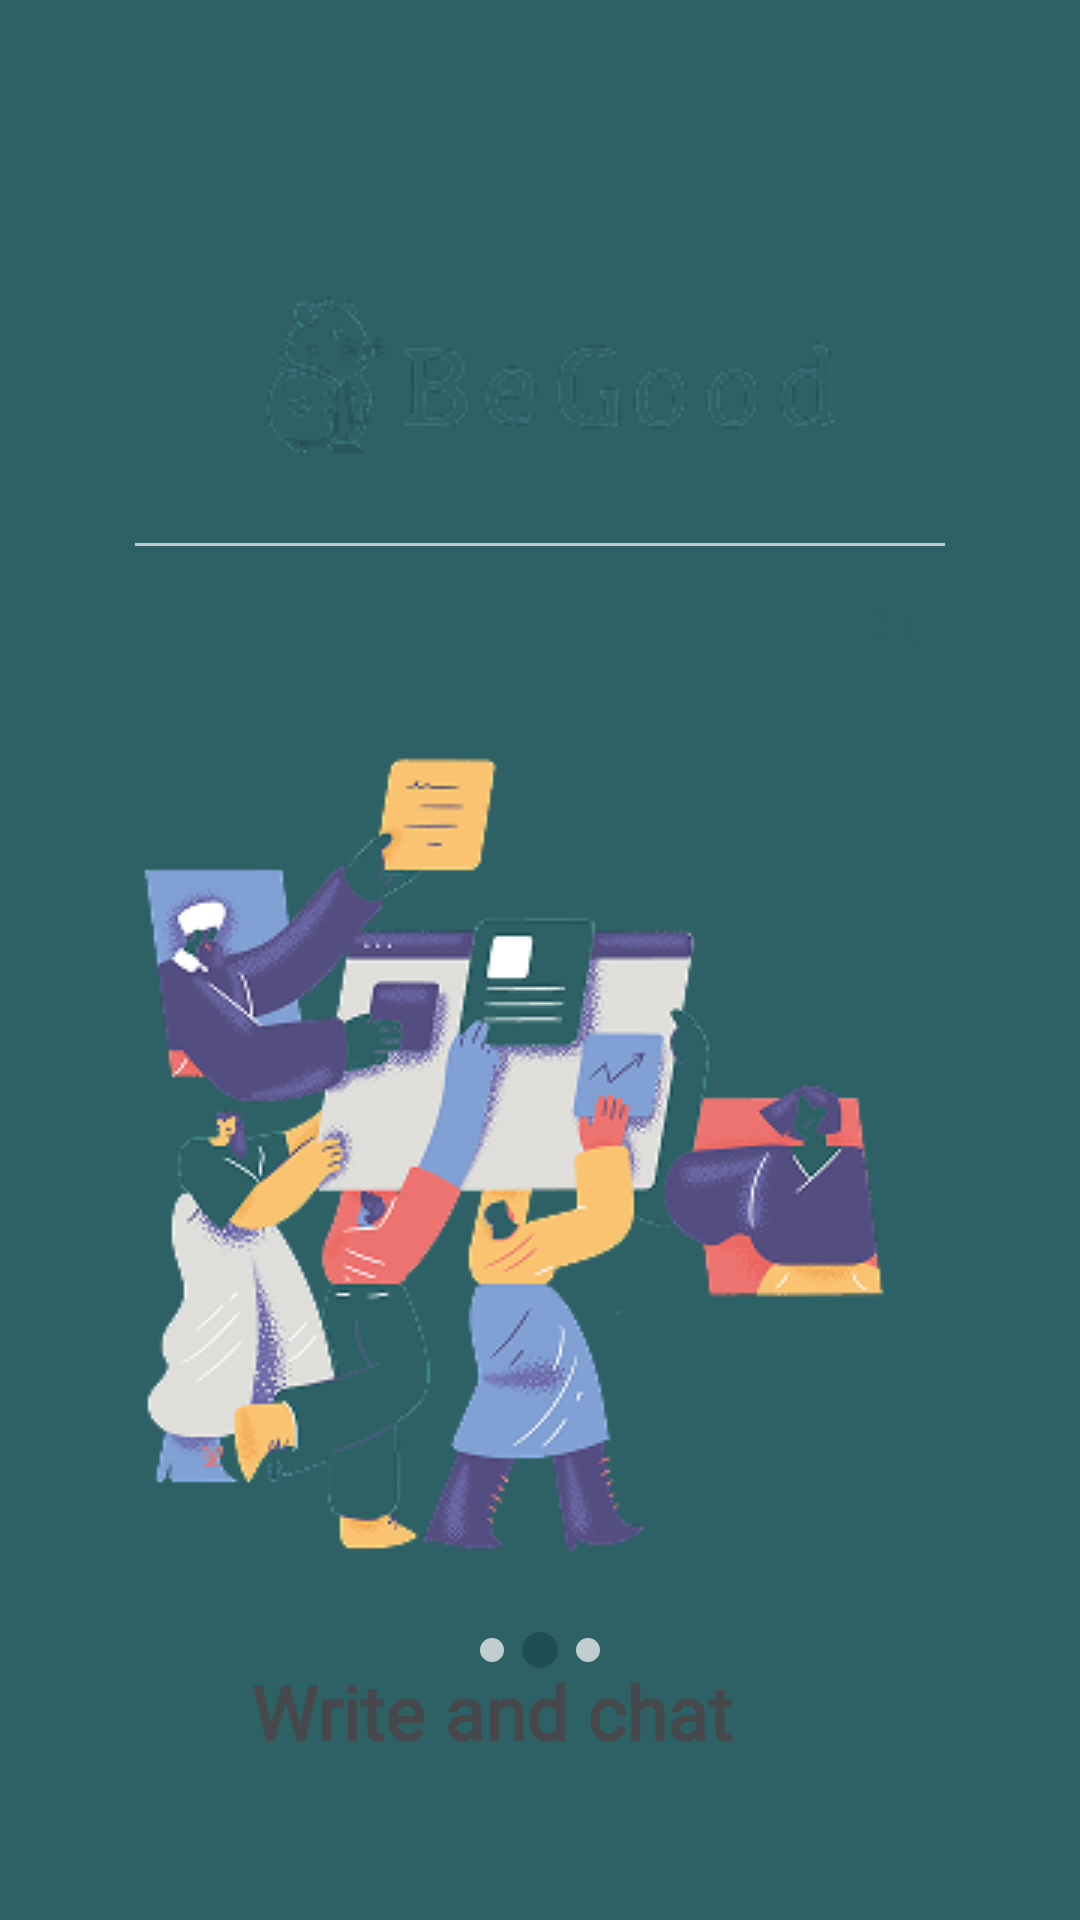

Icon click points for this 1080 × 1920 phone screenshot, format (x,y):
dot: (492,1650), (588,1650)
